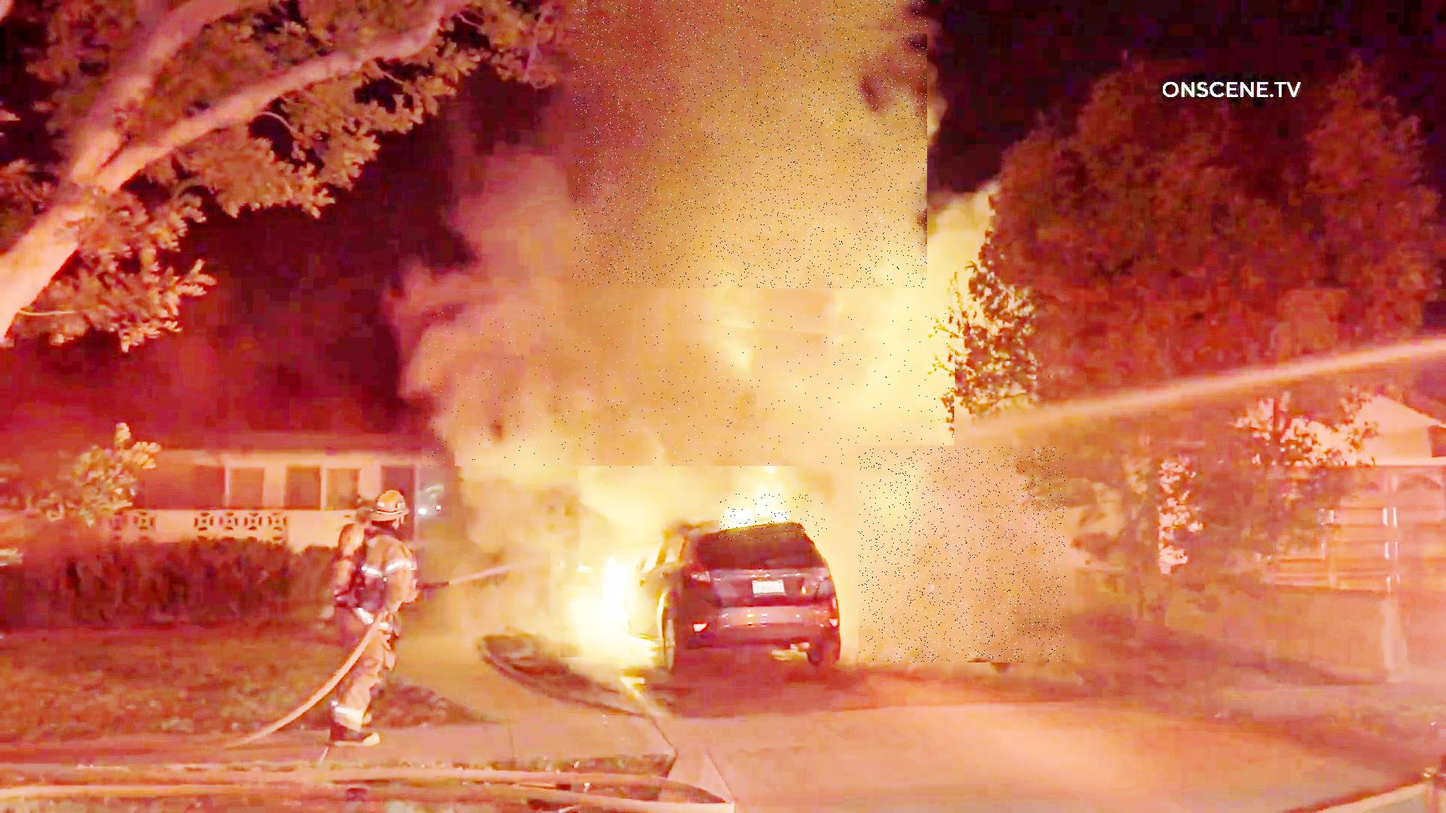fire: (554, 569, 633, 659), (720, 492, 828, 541)
smoke: (573, 0, 927, 288), (422, 306, 957, 468), (859, 448, 1066, 663)
